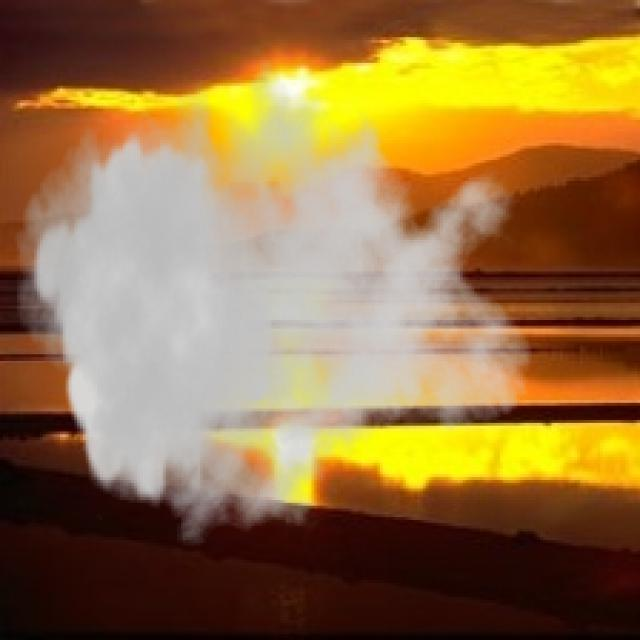smoke: (14, 34, 534, 554)
